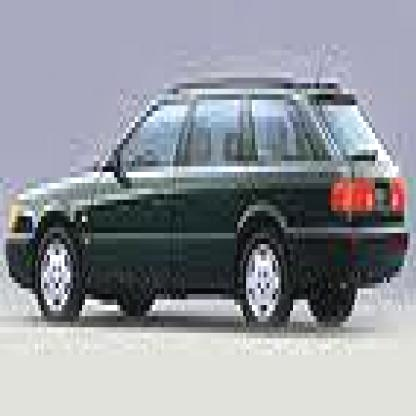Vehicle: (3, 50, 413, 349)
